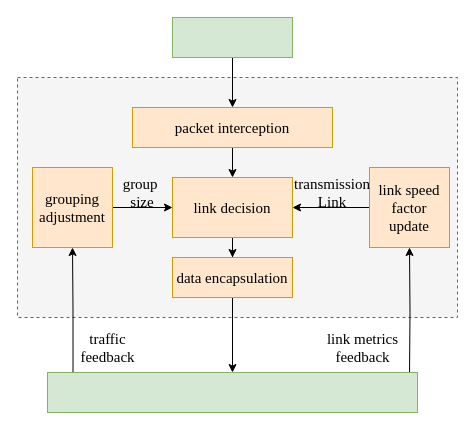
The diagram is 475 pixels wide and 430 high, and some of its shapes have lost their labels. The centre of each missing label's shape, as x and y in pixels:
802.11 MAC: (x=232, y=392)
TCP/IP: (x=232, y=37)
